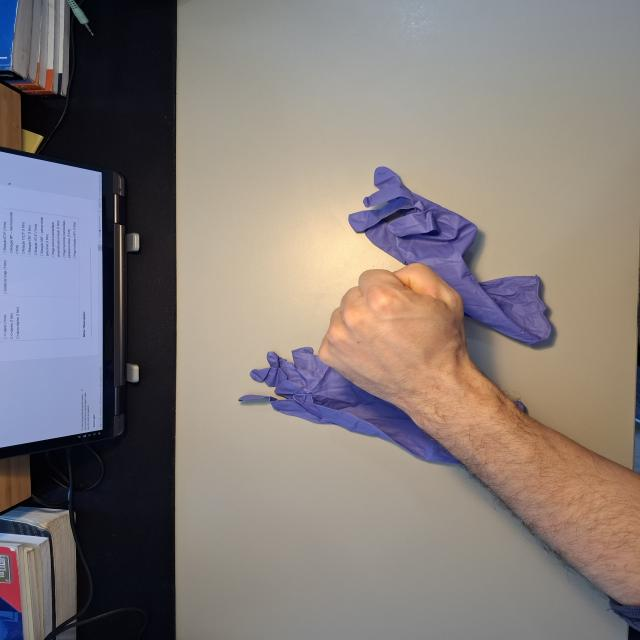glove_off: (317, 262, 481, 414)
